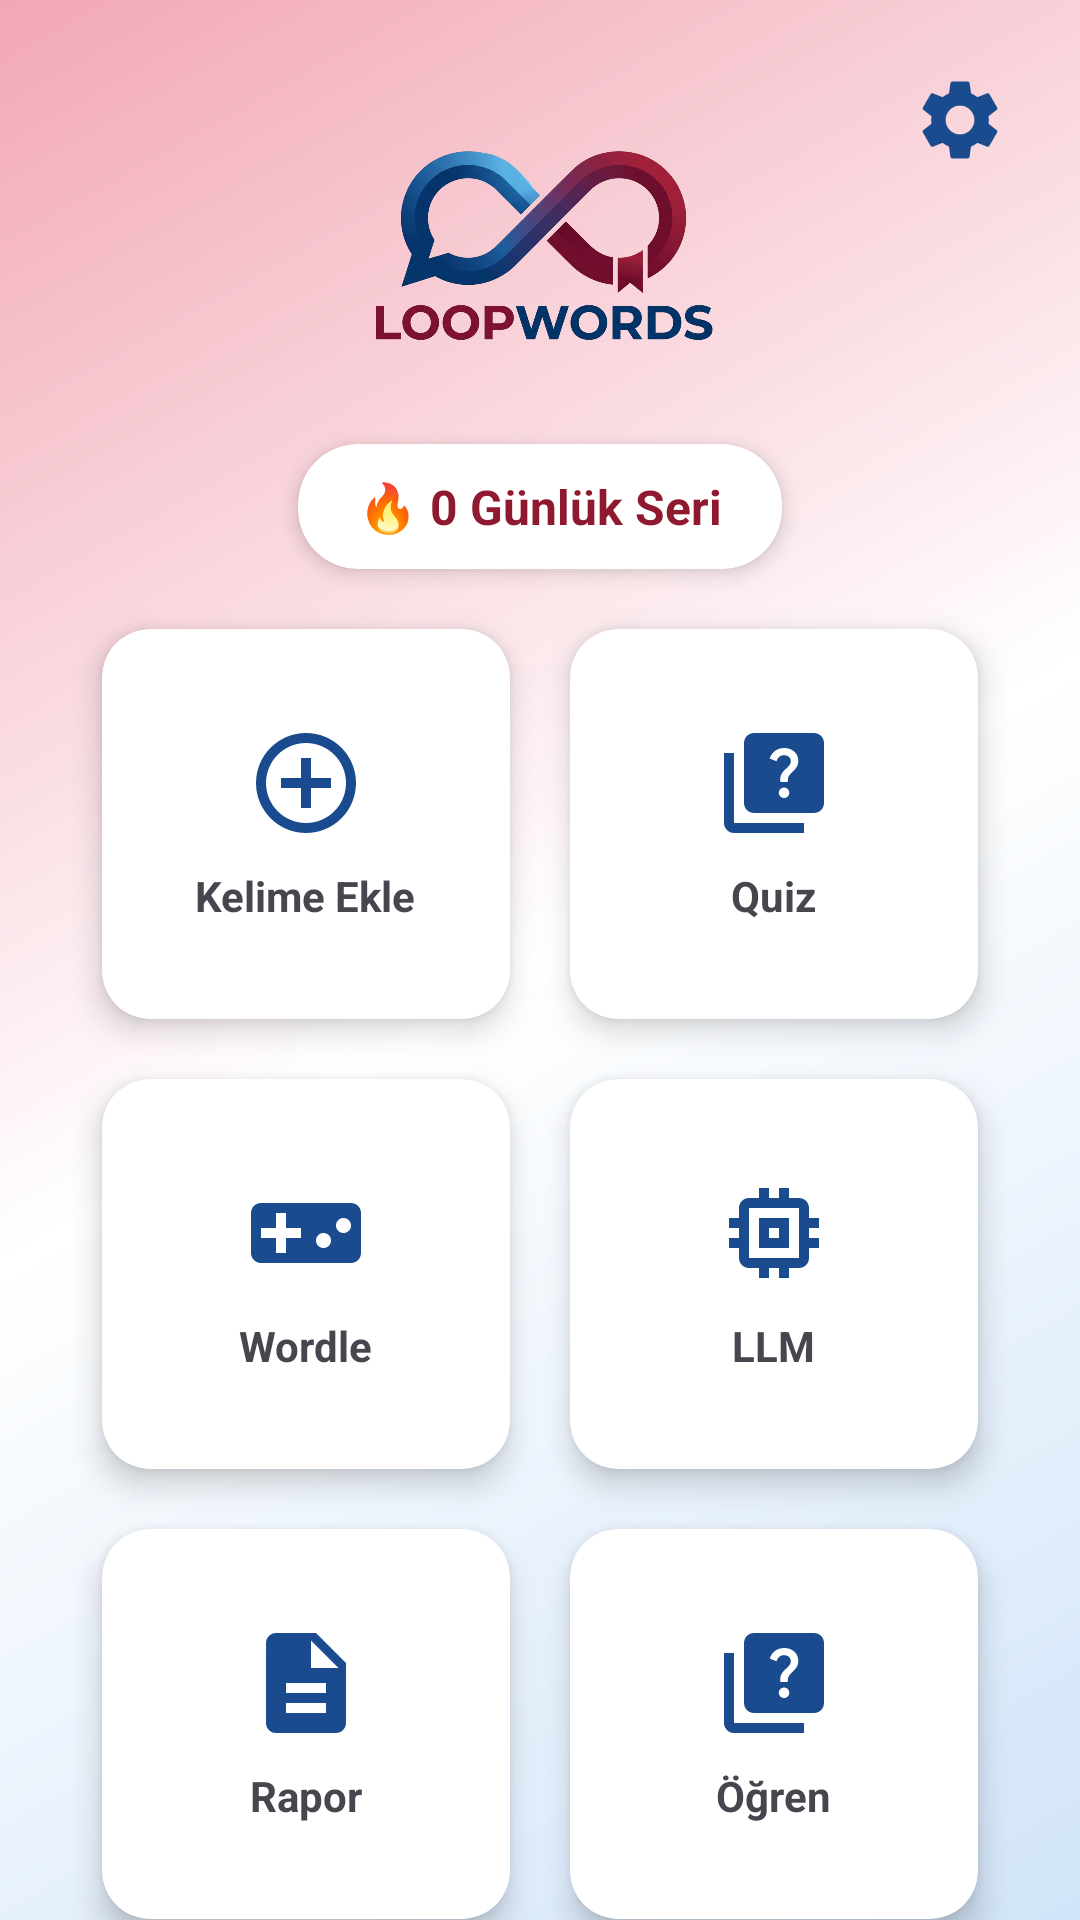

Icon click points for this 1080×1920 phone screenshot, format [x,y]:
add: [306,783]
Ayarlar: [960,120]
game: [306,1233]
report: [306,1683]
